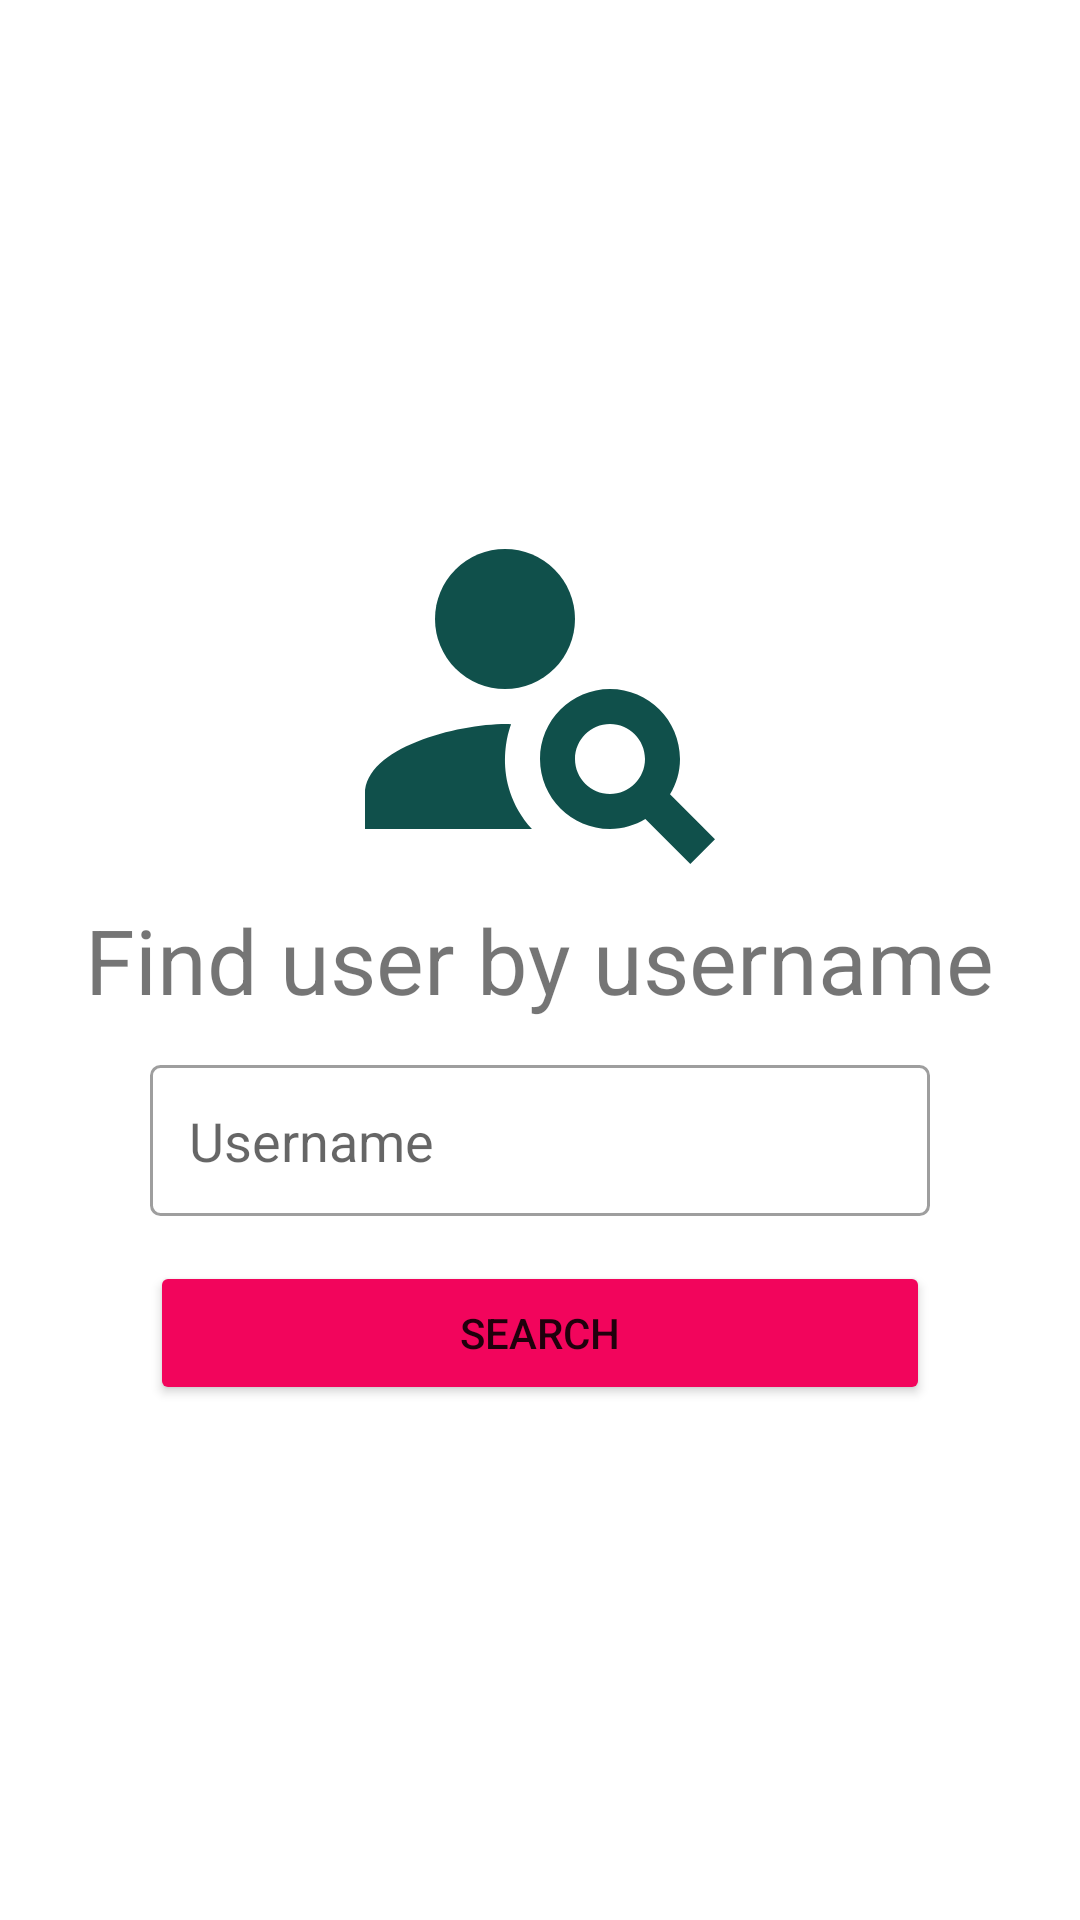

Point at icon controls on the screen. Image size 1080px x 1920px, points as (x,y).
person search: (540,706)
